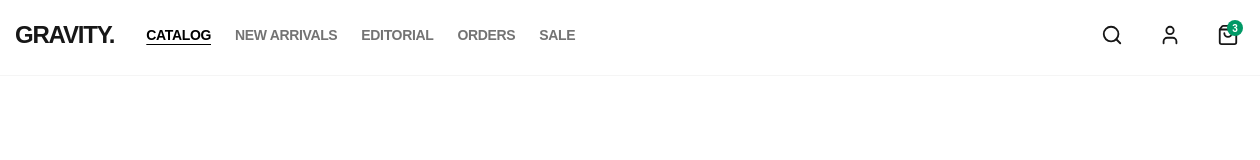
Test: Header › should toggle search input
Click the button named "Open search".
click(1112, 35)  # box [1093, 16, 1131, 54]
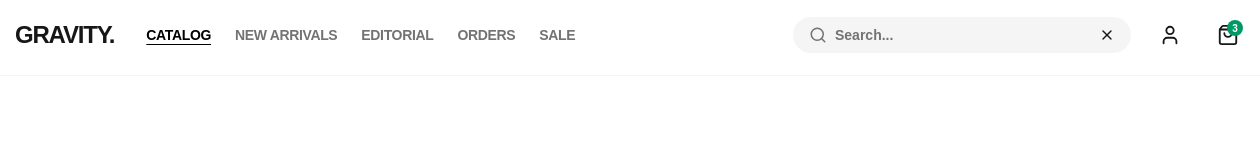
Expected: the field with placeholder "Search..." is shown, [835, 25, 1091, 45]
Click the button named "Close search".
click(1107, 35)  # box [1099, 27, 1115, 43]
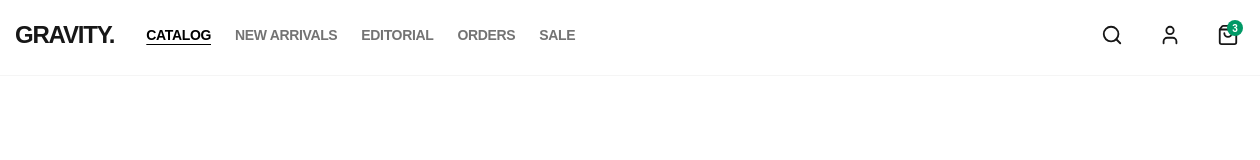
Expected: the field with placeholder "Search..." is gone
